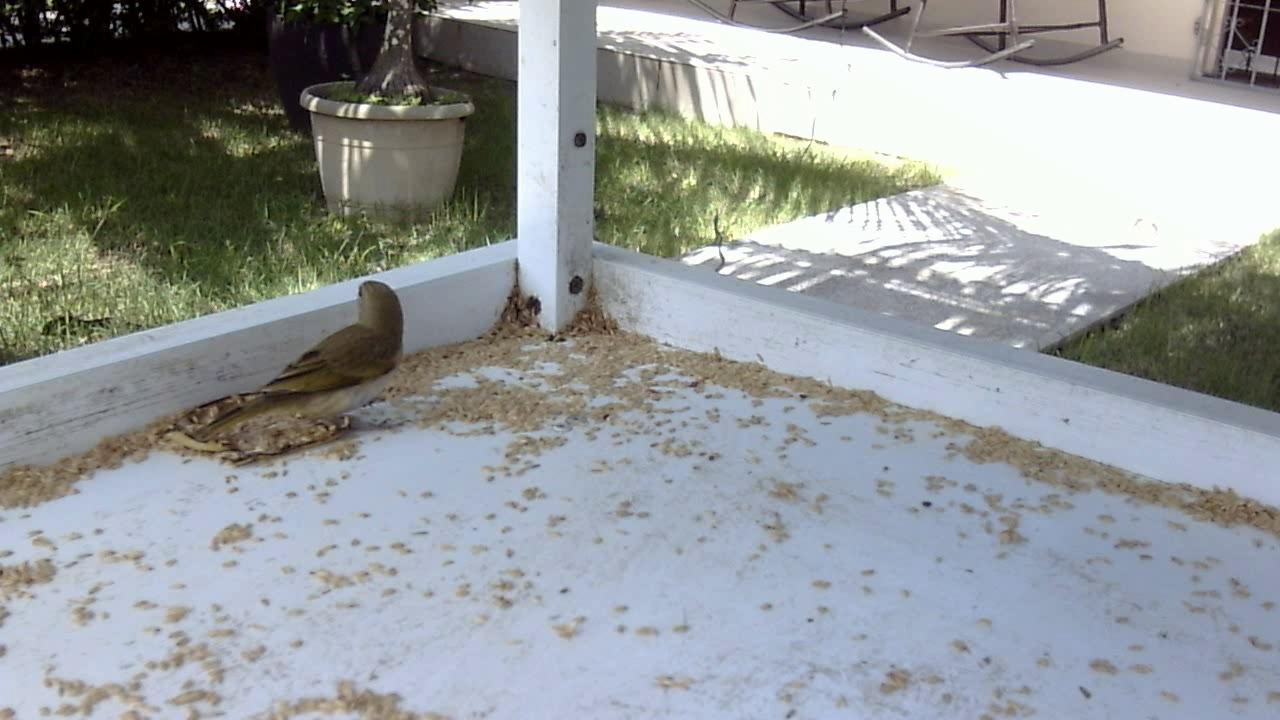canario_do_amazonas: (168, 274, 417, 474)
